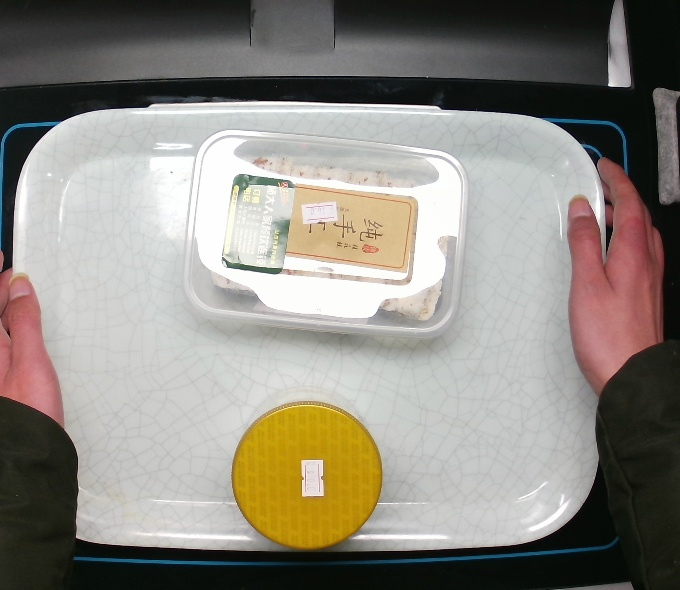wcq-GuiHuaGao: (180, 127, 471, 344)
wcq-MaiYaTang: (231, 399, 384, 550)
